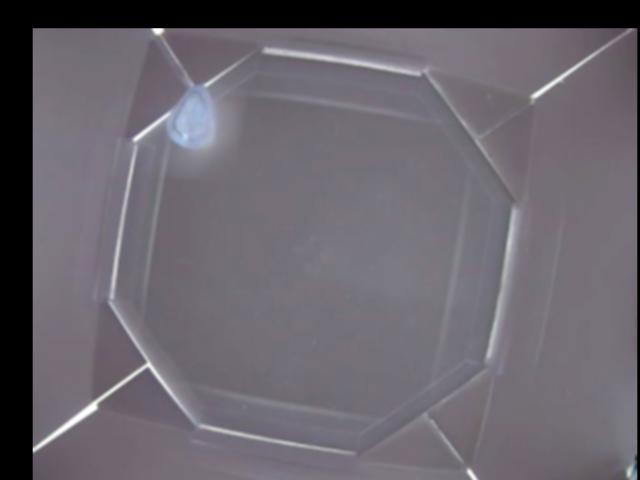Pebble: (166, 81, 215, 150)
